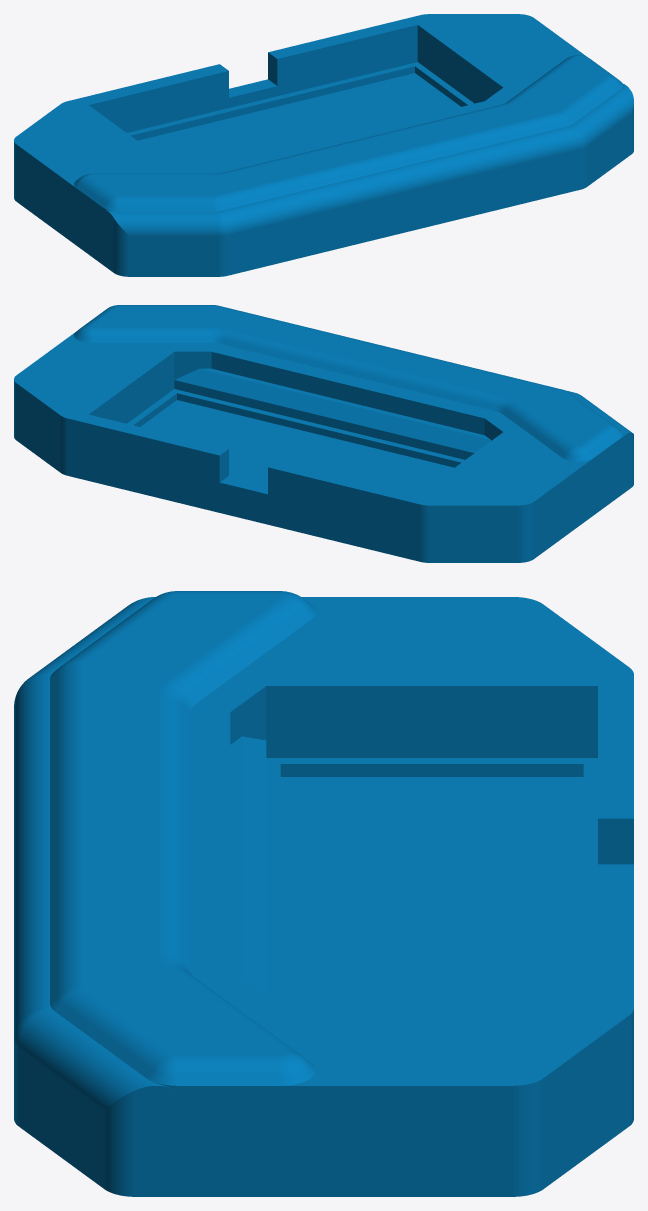
Rendered from Joystick Enclosure_Joystick Bottom.obj.
3 views of the same model, one above another, from view 1: azimuth 30°, elevation 25°; view 2: azimuth 150°, elevation 25°; view 3: azimuth 270°, elevation 25° (orthographic). The views are drawn at different scales.
Visible parts, largest first — view 1: Solid1; view 2: Solid1; view 3: Solid1.
Part boxes in pixels (x1,y1,x2,y2): Solid1: (14,14,633,276); Solid1: (14,305,633,562); Solid1: (14,591,633,1196).
Bounding box in the file's own units: 80.25 × 9.75 × 43.
